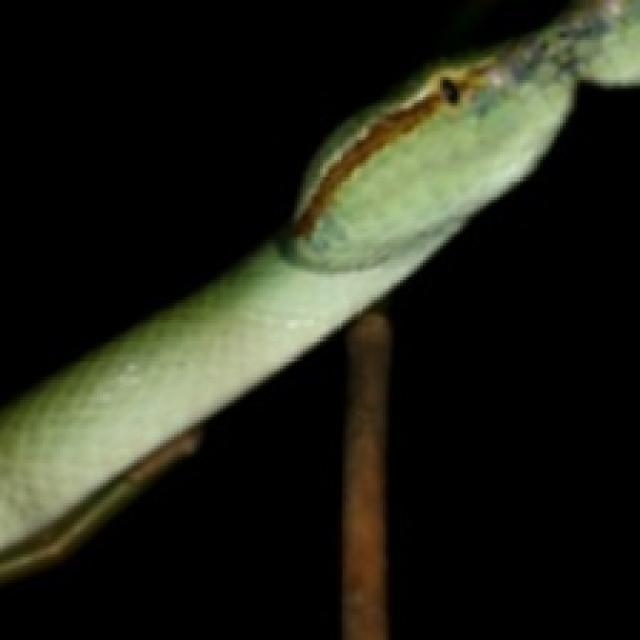north ph temple pitviper: (0, 2, 640, 569)
